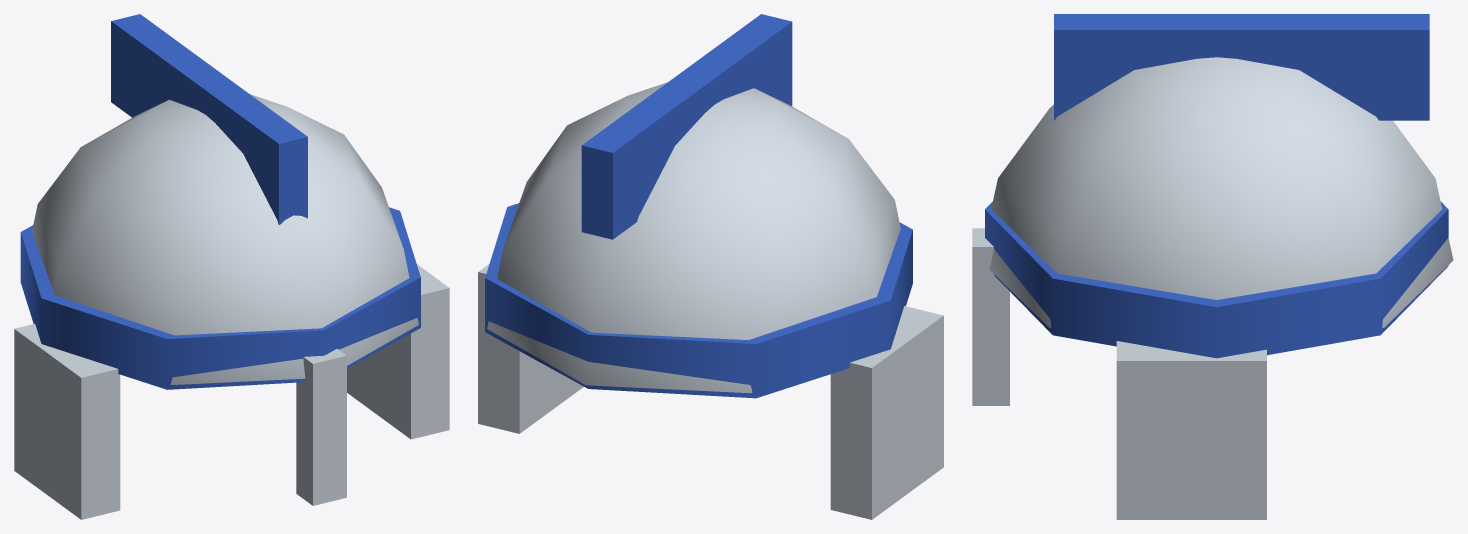
Rendered from helmet_t2.glb.
The picture shows the model from 3 angles, left to right: view 1: azimuth 30°, elevation 25°; view 2: azimuth 150°, elevation 25°; view 3: azimuth 270°, elevation 25°; orthographic projection. The views are drawn at different scales.
Parts seen in each view (by area): view 1: item_metal2, item_trim2; view 2: item_metal2, item_trim2; view 3: item_metal2, item_trim2.
Part boxes in pixels (bbox=[...]): item_metal2: bbox=[14, 94, 449, 519]; item_trim2: bbox=[20, 14, 420, 389]; item_metal2: bbox=[478, 82, 943, 519]; item_trim2: bbox=[485, 14, 912, 398]; item_metal2: bbox=[972, 57, 1453, 519]; item_trim2: bbox=[985, 14, 1448, 358].
Size of the model in its own units: 0.38 by 0.35 by 0.384.
